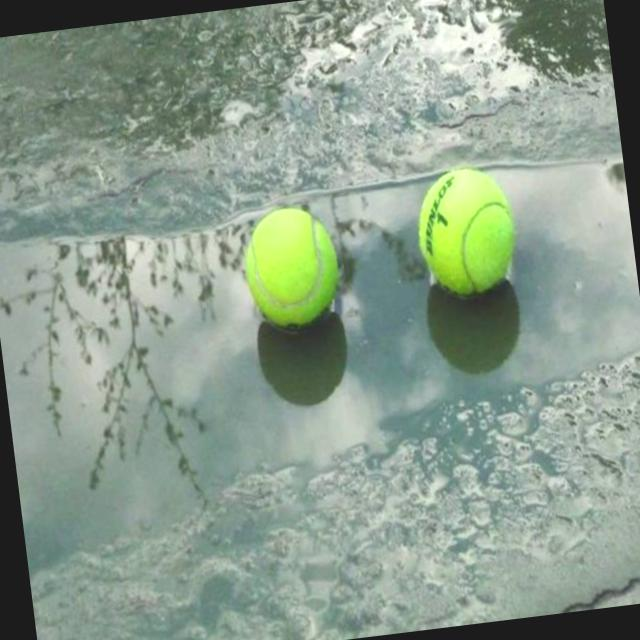Tennis Ball: (410, 163, 521, 297), (238, 203, 341, 330)
